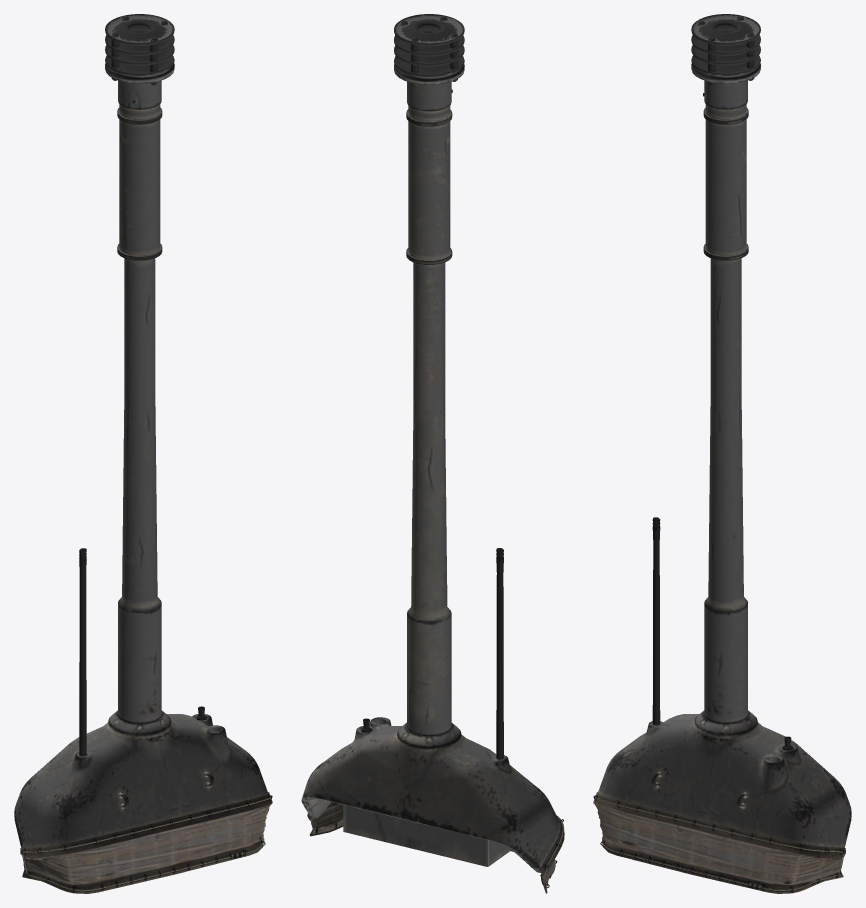
File: Gun_01.glb
The picture shows the model from 3 angles, left to right: view 1: azimuth 30°, elevation 25°; view 2: azimuth 150°, elevation 25°; view 3: azimuth 330°, elevation 25°; orthographic projection.
Visible parts, largest first — view 1: set_0_group_0; view 2: set_0_group_0; view 3: set_0_group_0.
Part boxes in pixels (left/top/right/bottom): set_0_group_0: left=14, top=14, right=272, bottom=893; set_0_group_0: left=301, top=14, right=564, bottom=893; set_0_group_0: left=593, top=14, right=851, bottom=893.
Bounding box in the file's own units: 1.5 × 4.97 × 0.6629.
Materials: 1 (1 with a texture image).
